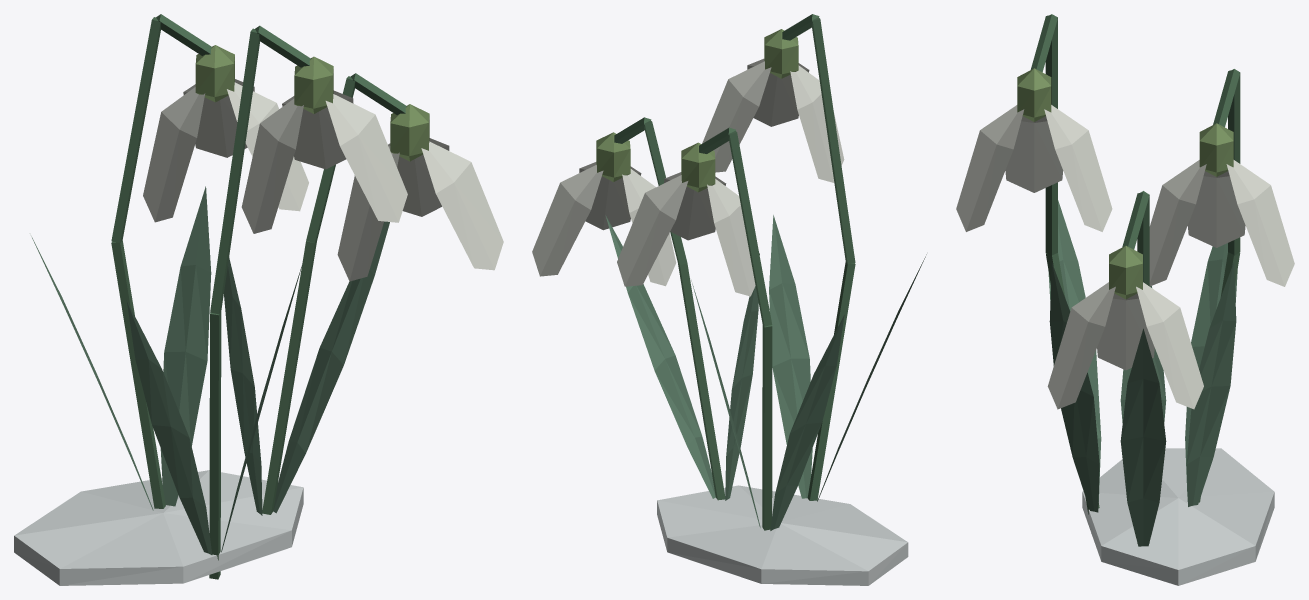
File: flower_winter_a.glb
The picture shows the model from 3 angles, left to right: view 1: azimuth 30°, elevation 25°; view 2: azimuth 150°, elevation 25°; view 3: azimuth 270°, elevation 25°; orthographic projection. The views are drawn at different scales.
Visible parts, largest first — view 1: plant; view 2: plant; view 3: plant.
Boxes of the visible parts, x1,y1,x2,y2 form: plant: (14, 14, 503, 585); plant: (532, 14, 926, 585); plant: (956, 14, 1294, 585).
Size of the model in its own units: 0.2367 by 0.31 by 0.1798.
